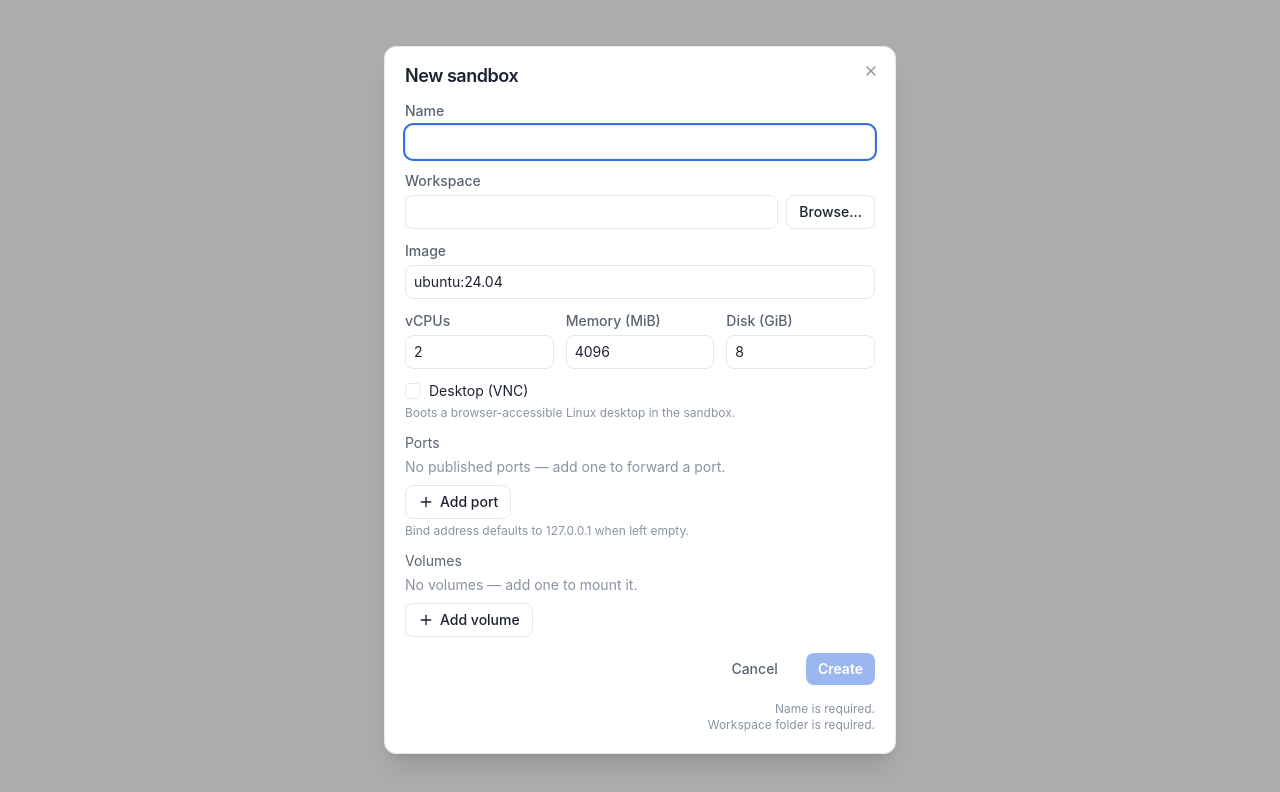
Test: NewSandbox › live error: typing invalid path shows error immediately (no click needed)
Click the button "Add volume".
click(469, 620)  # box x1=405 y1=603 x2=533 y2=637
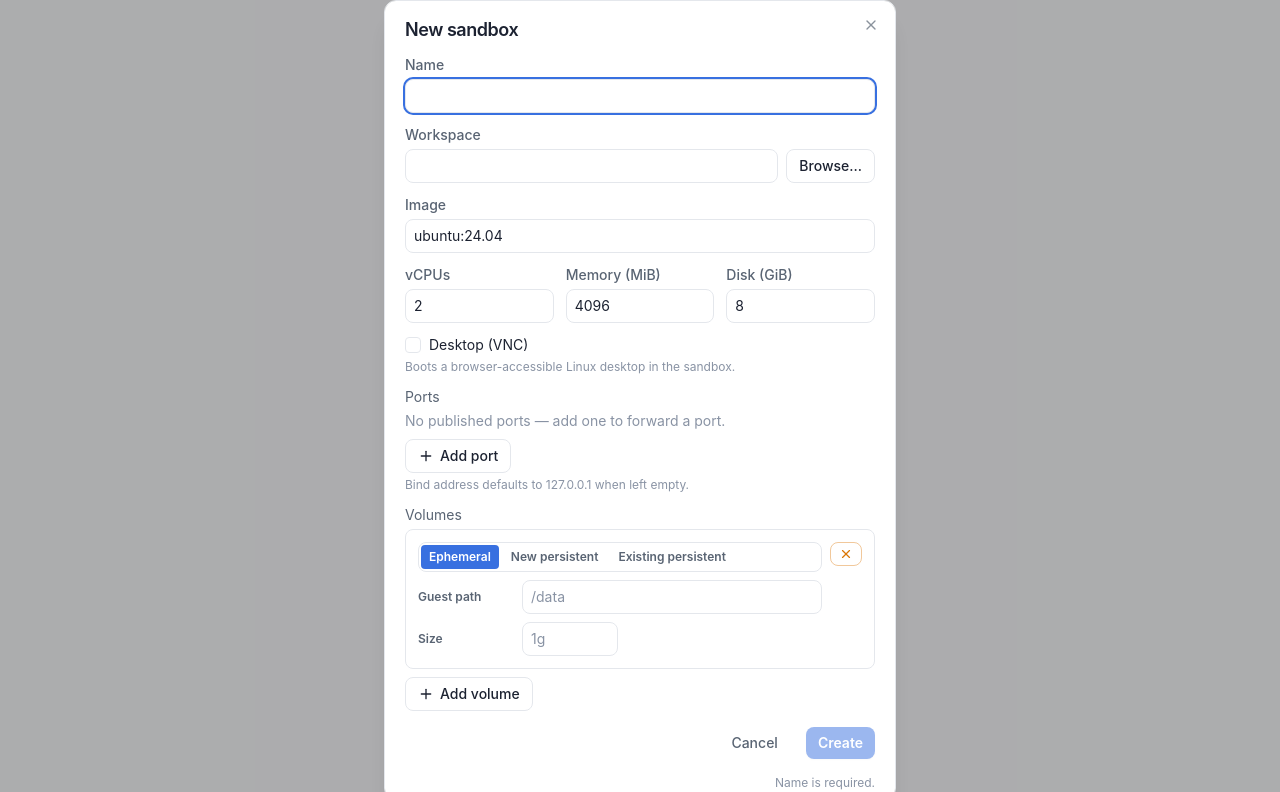
Type "data" into the field named "volume 1 path".
click(672, 597); type("data")  # box x1=522 y1=580 x2=822 y2=614
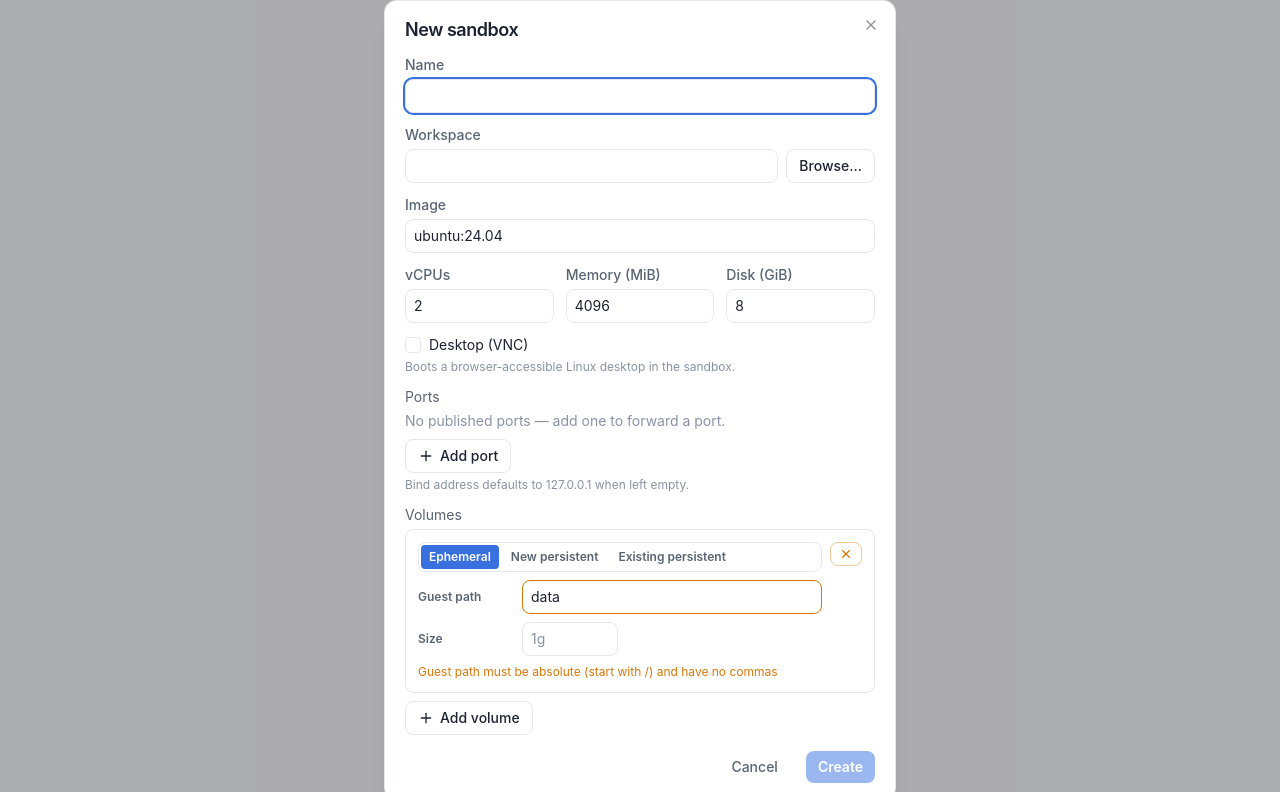
Now the text "Guest path must be absolute" is shown, box x1=418 y1=664 x2=778 y2=679
